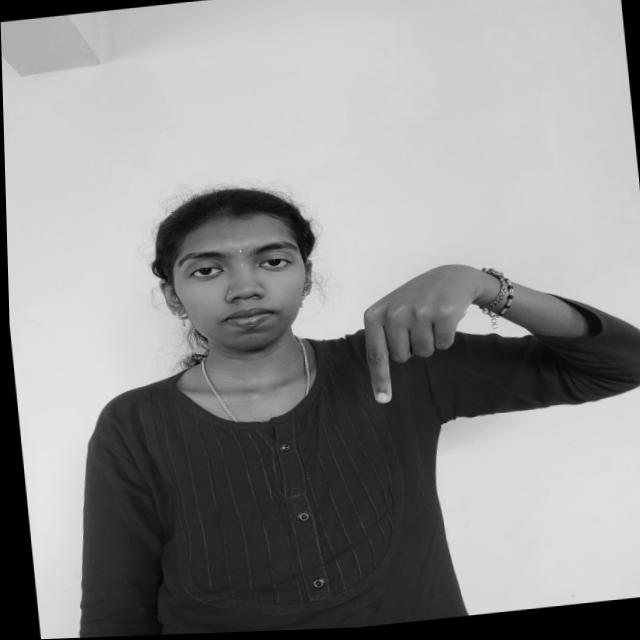Now: (344, 252, 502, 413)
